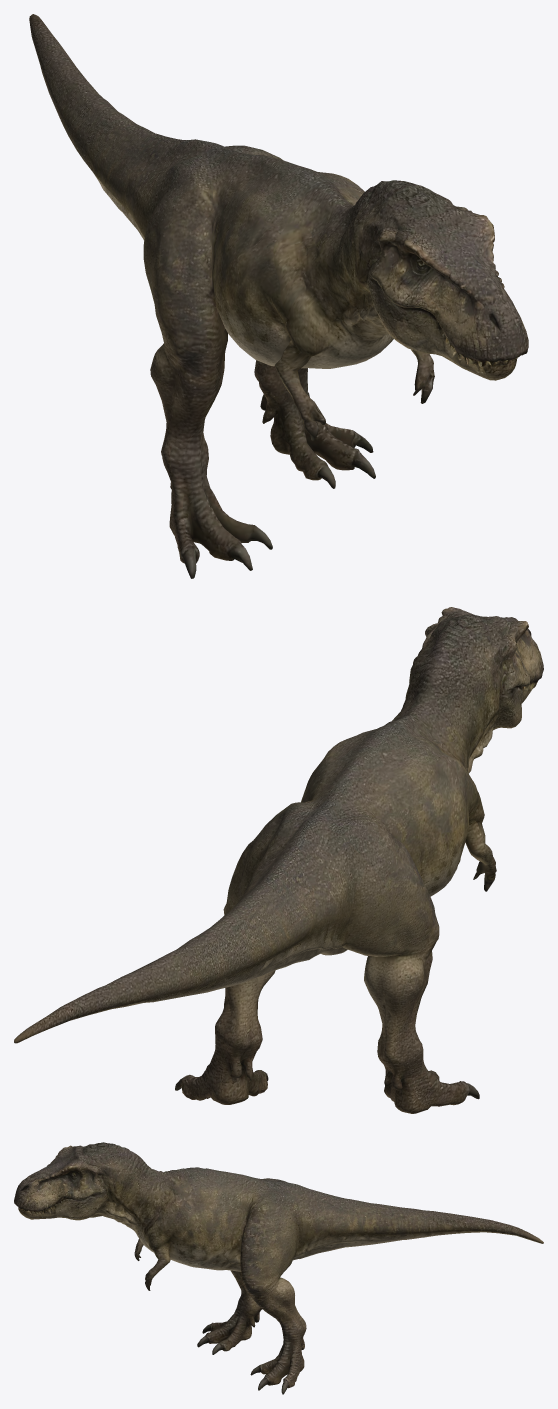
Rendered from tyrannosaurus.glb.
3 renders of one model, top to bottom at view 1: azimuth 30°, elevation 25°; view 2: azimuth 150°, elevation 25°; view 3: azimuth 270°, elevation 25°, orthographic. The views are drawn at different scales.
Parts seen in each view (by area): view 1: dino; view 2: dino; view 3: dino.
Part boxes in pixels (box(x1,y1,x2,y2)): dino: box(29, 14, 528, 578); dino: box(14, 607, 543, 1113); dino: box(14, 1142, 543, 1394).
Size of the model in its own units: 3.44 by 5.48 by 12.
1 material, 1 textured.
